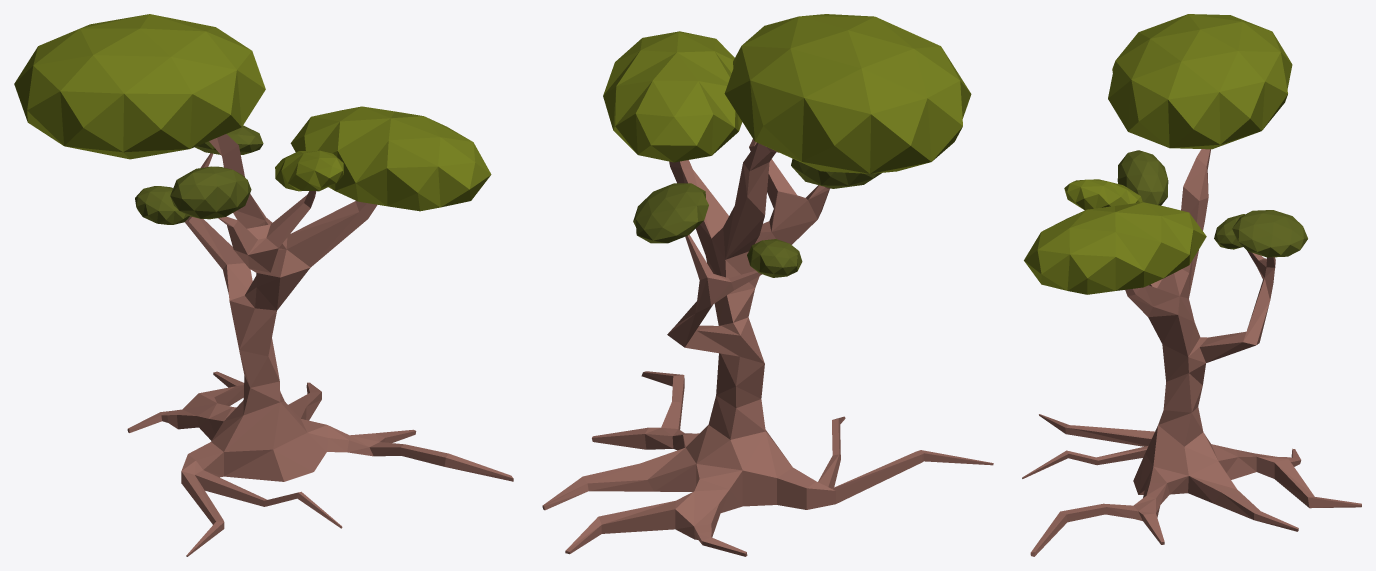
File: Big Tree_2.fbx
3 views of the same model, side by side, from view 1: azimuth 30°, elevation 25°; view 2: azimuth 150°, elevation 25°; view 3: azimuth 270°, elevation 25° (orthographic). The views are drawn at different scales.
Visible parts, largest first — view 1: Big Tree_2; view 2: Big Tree_2; view 3: Big Tree_2.
Boxes of the visible parts, box(x1,y1,x2,y2) form: Big Tree_2: box(14, 14, 513, 556); Big Tree_2: box(542, 14, 993, 556); Big Tree_2: box(1022, 14, 1361, 556).
Bounding box in the file's own units: 6.57 × 7.31 × 5.54.
